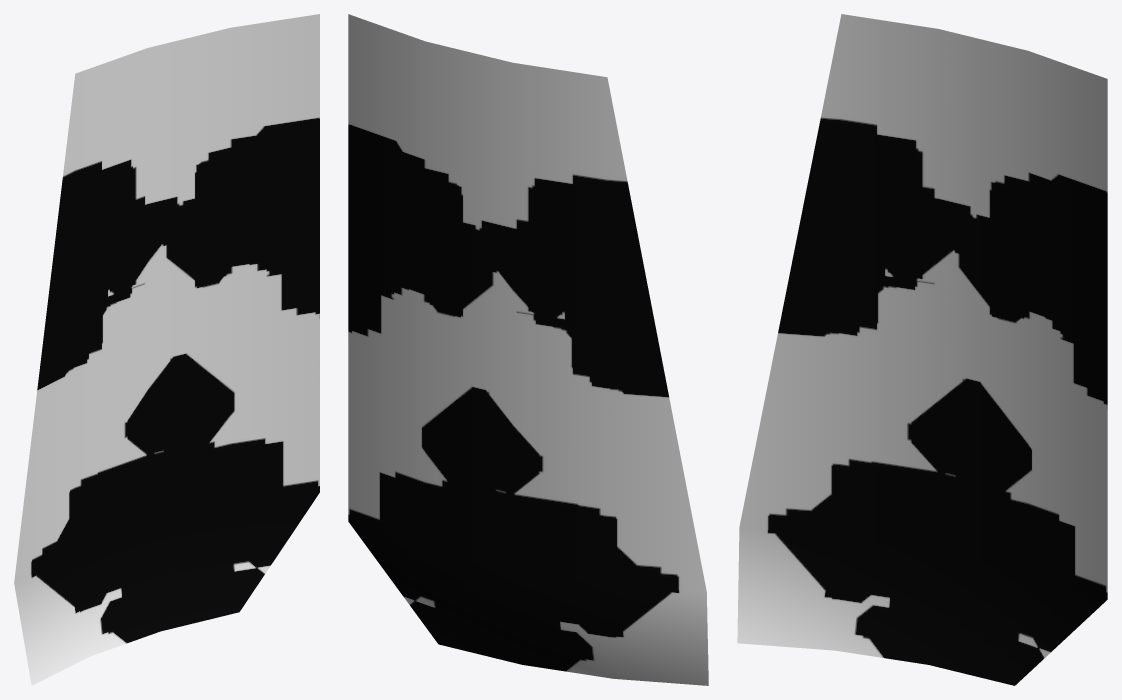
File: 10-Uncanny-stare-mouth.glb
The picture shows the model from 3 angles, left to right: view 1: azimuth 30°, elevation 25°; view 2: azimuth 150°, elevation 25°; view 3: azimuth 330°, elevation 25°; orthographic projection. The views are drawn at different scales.
Parts seen in each view (by area): view 1: 10-Uncanny-stare-mouth; view 2: 10-Uncanny-stare-mouth; view 3: 10-Uncanny-stare-mouth.
Boxes of the visible parts, x1,y1,x2,y2 form: 10-Uncanny-stare-mouth: [14, 14, 319, 685]; 10-Uncanny-stare-mouth: [348, 14, 708, 685]; 10-Uncanny-stare-mouth: [737, 14, 1107, 685].
Bounding box in the file's own units: 0.4278 × 0.7315 × 0.0788.
Materials: 1 (1 with a texture image).
